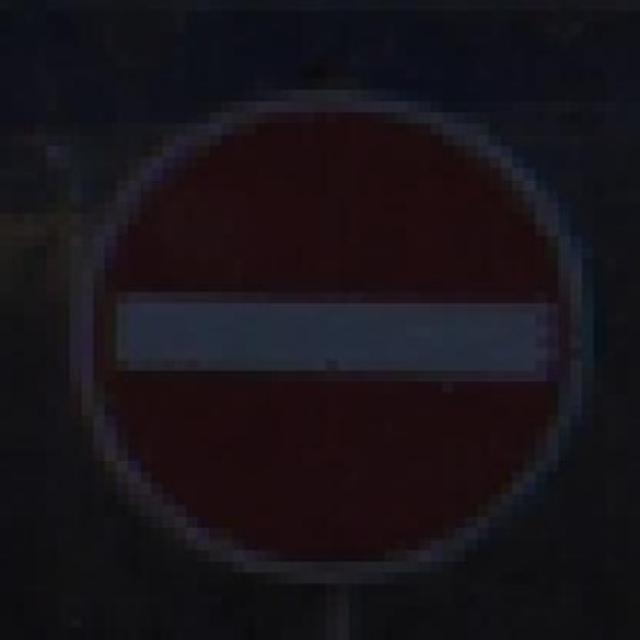No Entry: (46, 67, 594, 584)
